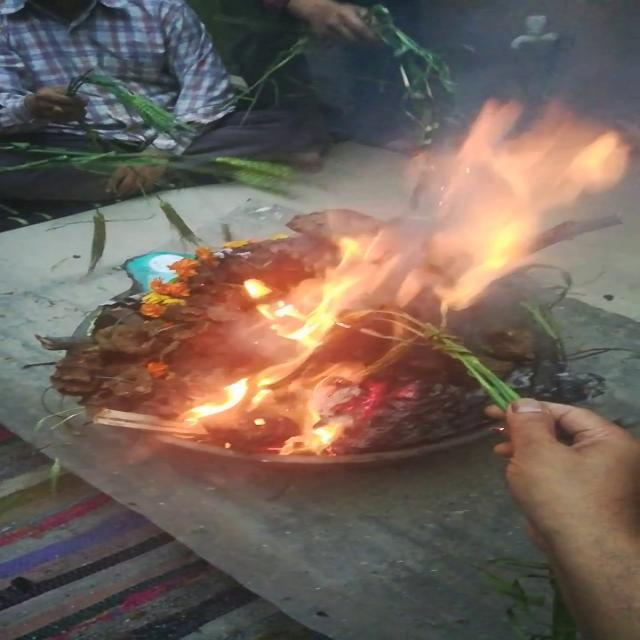Fire: (374, 106, 640, 295), (126, 362, 356, 456), (268, 247, 384, 361)
Smoke: (372, 5, 640, 106)
